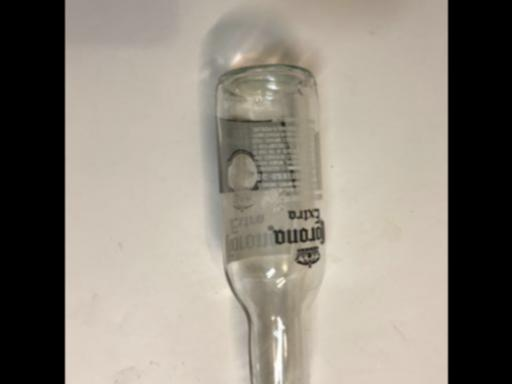alcohol: (212, 62, 324, 384)
glass: (212, 62, 324, 384)
sodocalcique: (212, 62, 324, 384)
